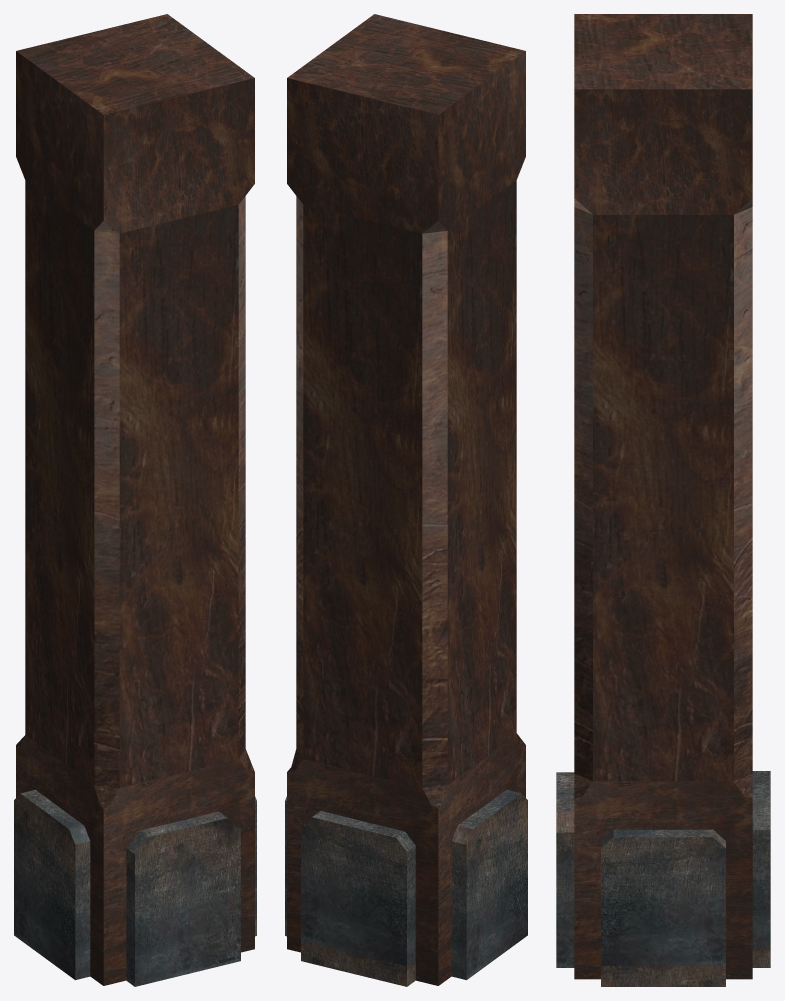
File: Poutre_KOT.fbx
The picture shows the model from 3 angles, left to right: view 1: azimuth 30°, elevation 25°; view 2: azimuth 150°, elevation 25°; view 3: azimuth 270°, elevation 25°; orthographic projection. The views are drawn at different scales.
Visible parts, largest first — view 1: Cube; view 2: Cube; view 3: Cube.
Part boxes in pixels (<box>): Cube: <box>14,14,256,986</box>; Cube: <box>285,14,527,986</box>; Cube: <box>556,14,770,986</box>.
Size of the model in its own units: 240 by 1100 by 240.
